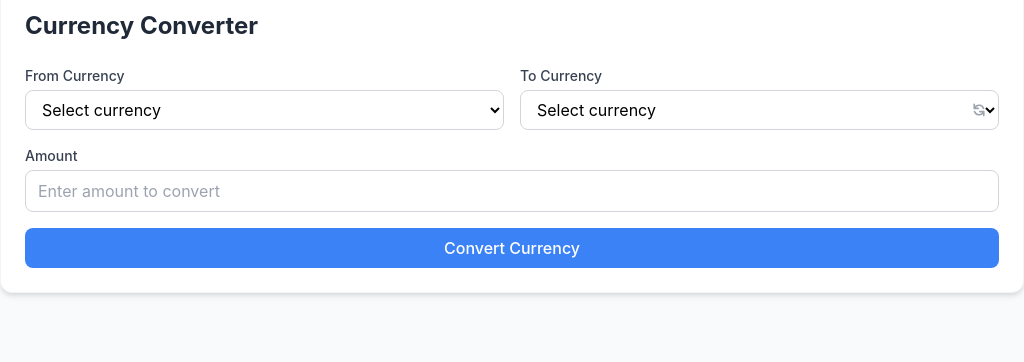
it: ConversionForm › shows validation errors for empty fields
Note: Submit form without filling fields
What coordinates should you click on to do the following:
click the button "Convert Currency"
I would click on:
 (512, 248)
Its box is [25, 228, 999, 268].
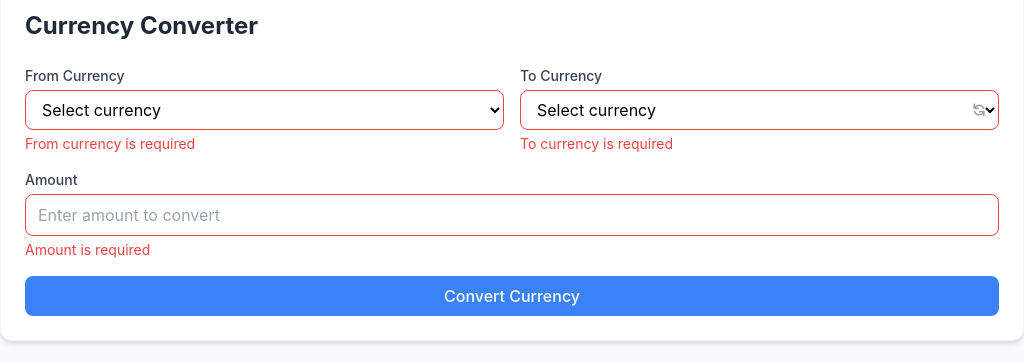
Result: the text "From currency is required" is shown at [25, 135, 195, 152]
Result: the text "To currency is required" is shown at [520, 135, 673, 152]
Result: the text "Amount is required" is shown at [25, 241, 150, 258]
